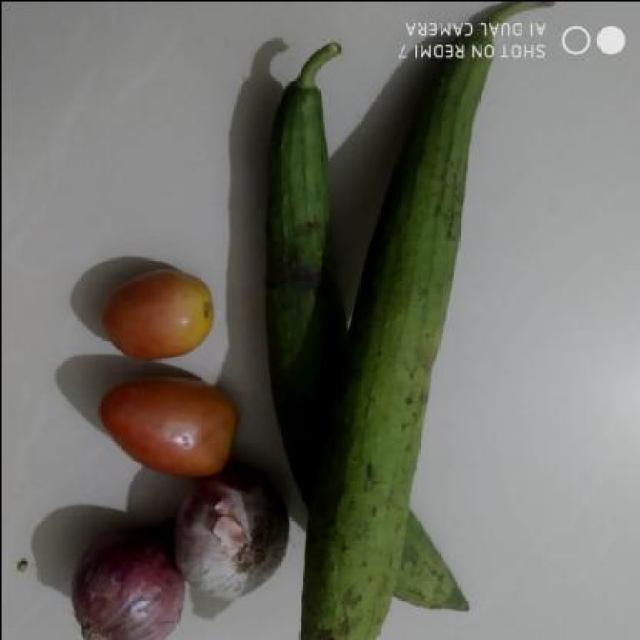onion: (62, 521, 185, 640), (174, 478, 280, 602)
tomato: (89, 374, 233, 486), (89, 263, 217, 360)
